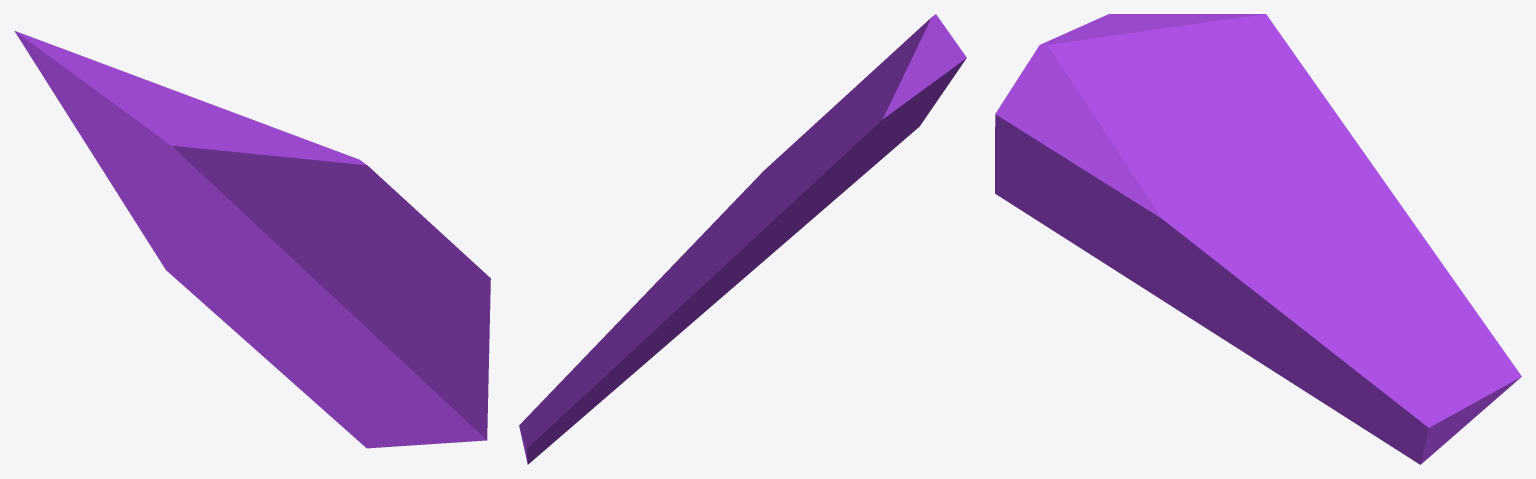
Rendered from Window_118_0_chunks.fbx.
3 renders of one model, left to right at view 1: azimuth 30°, elevation 25°; view 2: azimuth 150°, elevation 25°; view 3: azimuth 270°, elevation 25°, orthographic. The views are drawn at different scales.
Visible parts, largest first — view 1: Window_118_0_2, Window_118_0_3, Window_118_0_1, Window_118_0_0; view 2: Window_118_0_1, Window_118_0_3, Window_118_0_0, Window_118_0_2; view 3: Window_118_0_1, Window_118_0_3, Window_118_0_2, Window_118_0_0.
Boxes of the visible parts, x1,y1,x2,y2 form: Window_118_0_2: (262, 209, 490, 443); Window_118_0_3: (14, 30, 414, 261); Window_118_0_1: (125, 206, 437, 448); Window_118_0_0: (20, 40, 318, 328); Window_118_0_1: (519, 167, 786, 464); Window_118_0_3: (770, 14, 966, 185); Window_118_0_0: (623, 133, 867, 359); Window_118_0_2: (761, 80, 951, 262); Window_118_0_1: (1161, 182, 1521, 464); Window_118_0_3: (1022, 14, 1275, 193); Window_118_0_2: (995, 72, 1178, 303); Window_118_0_0: (1227, 28, 1452, 279).
Size of the model in its own units: 357 by 433 by 632.
